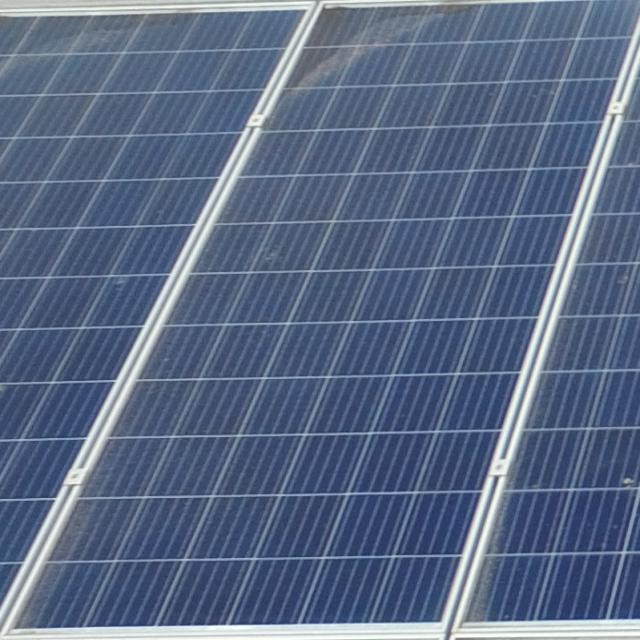Dust: (287, 0, 498, 98), (0, 0, 170, 77), (450, 498, 529, 640)
